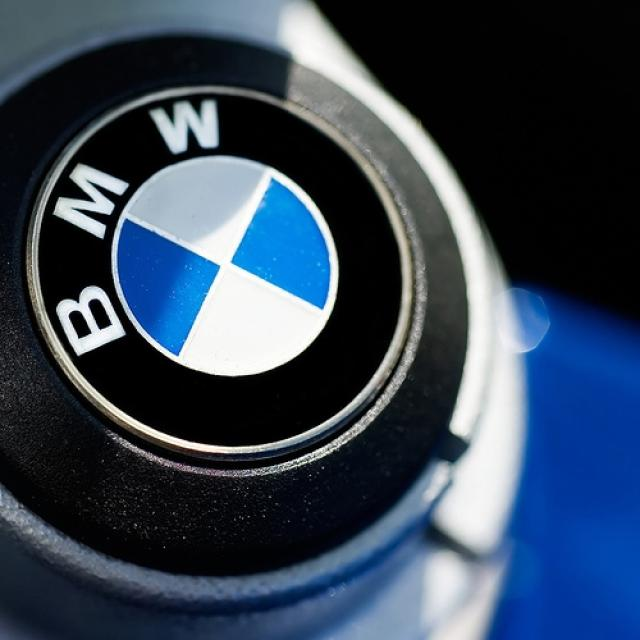bmw: (14, 78, 430, 477)
